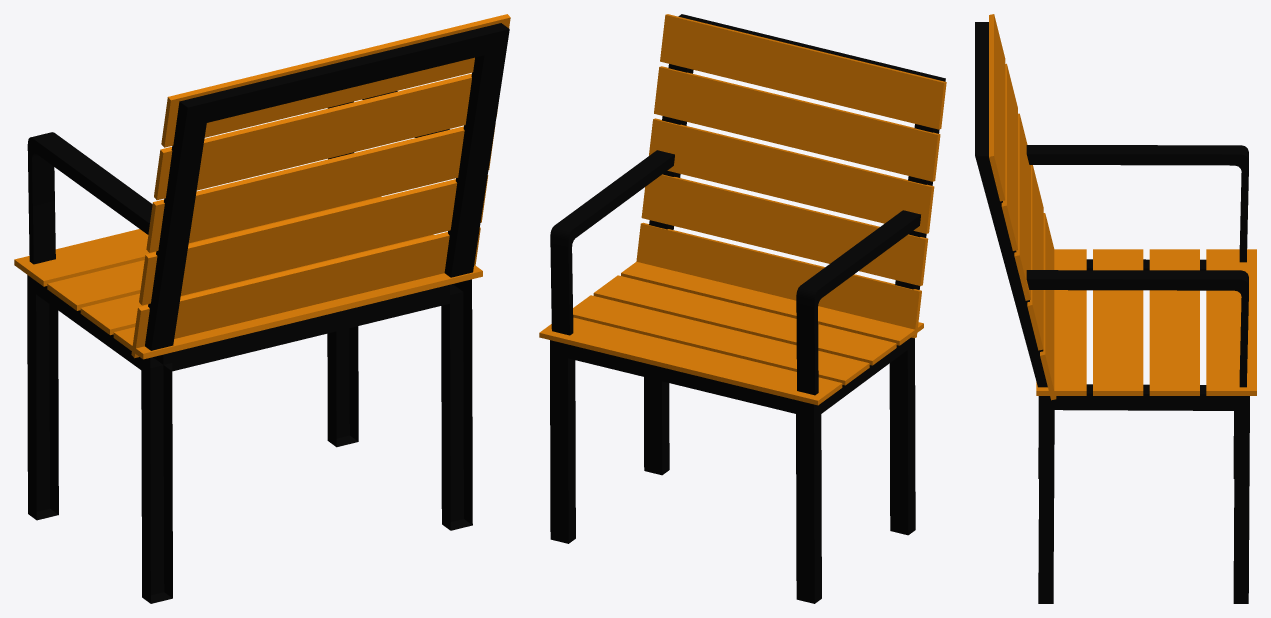
The model's file is parasolchair.fbx.
3 views of the same model, side by side, from view 1: azimuth 30°, elevation 25°; view 2: azimuth 150°, elevation 25°; view 3: azimuth 270°, elevation 25° (orthographic). The views are drawn at different scales.
Visible parts, largest first — view 1: parasolchair; view 2: parasolchair; view 3: parasolchair.
Boxes of the visible parts, x1,y1,x2,y2 form: parasolchair: [14, 14, 510, 603]; parasolchair: [539, 14, 946, 603]; parasolchair: [975, 14, 1256, 603].
Bounding box in the file's own units: 262 × 389 × 220.
